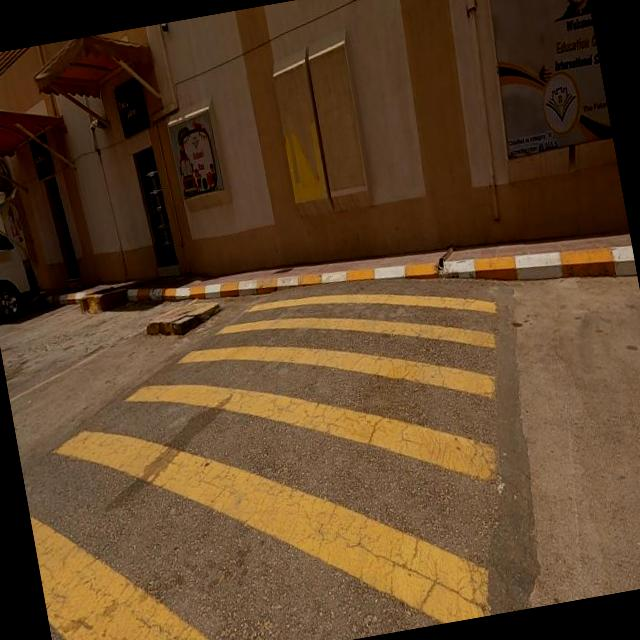debris: (415, 0, 638, 314)
